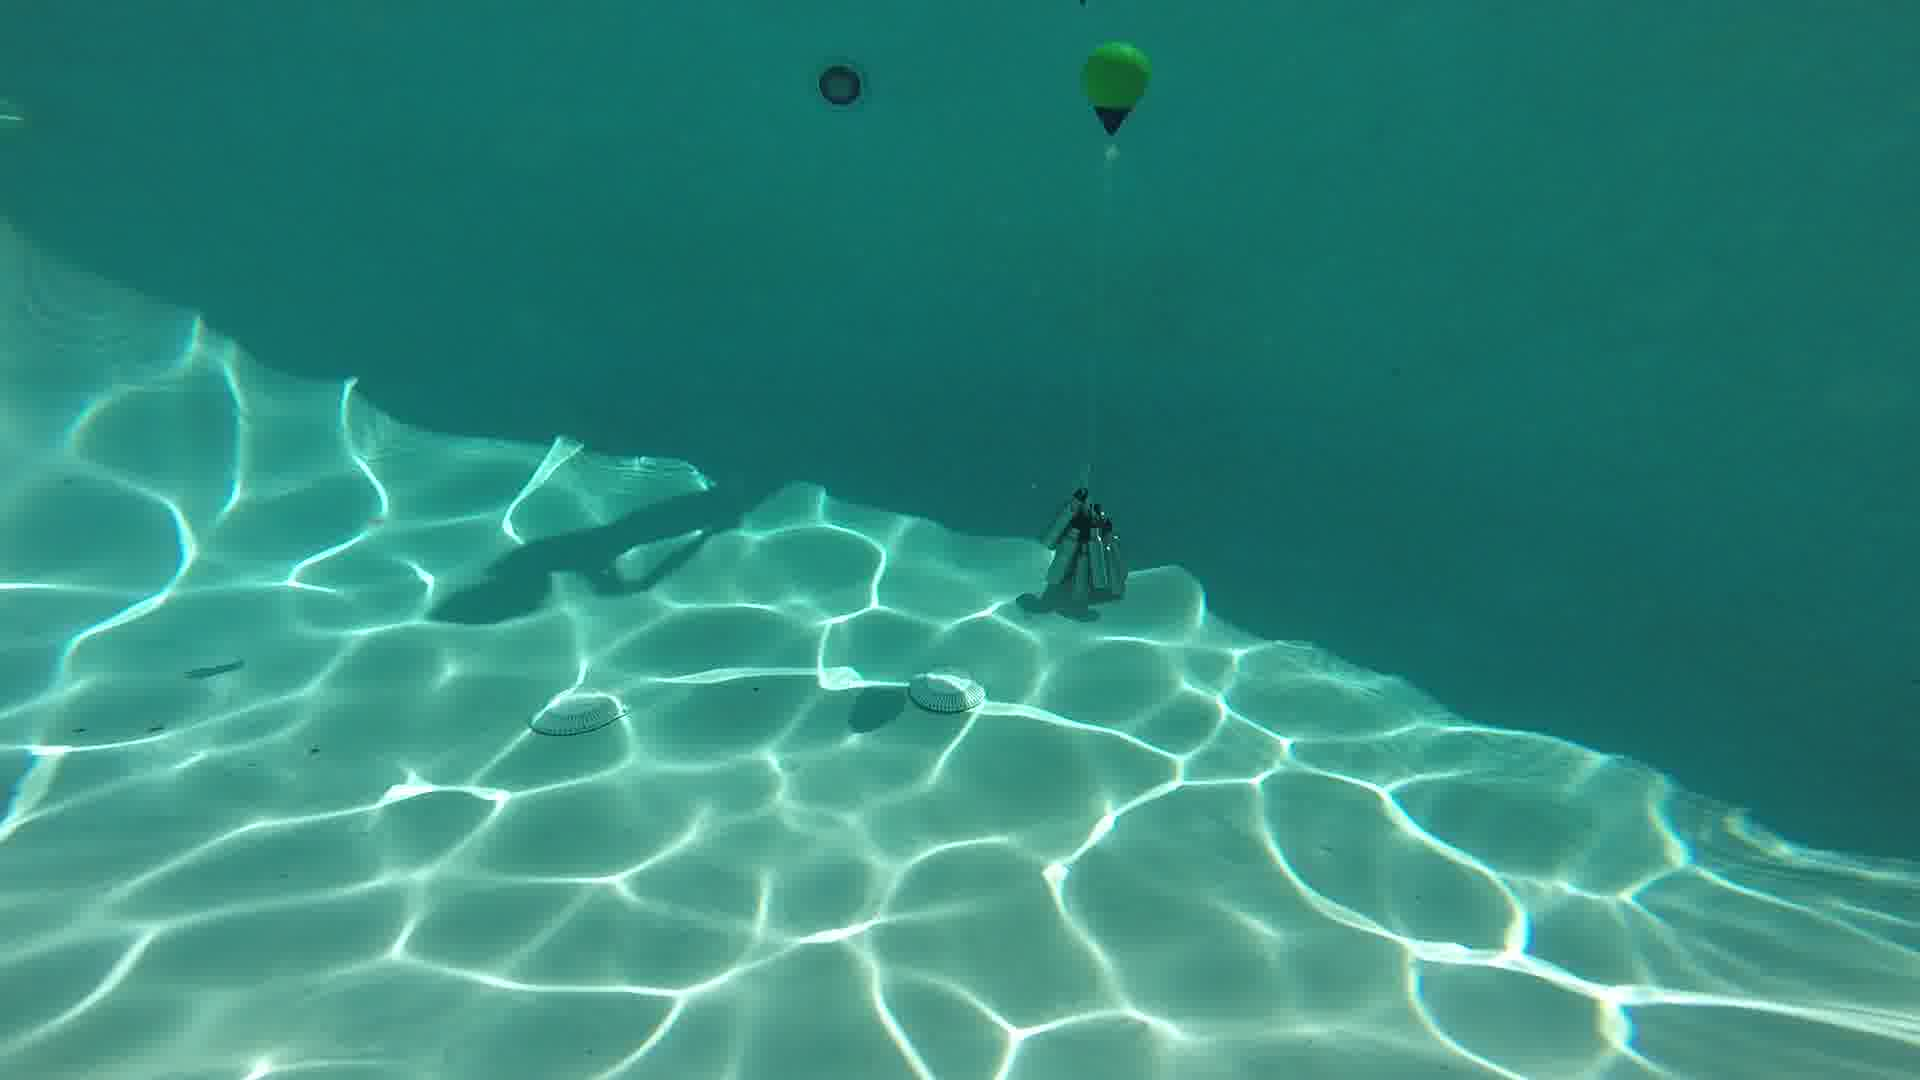yellow_buoy: (1080, 41, 1153, 164)
